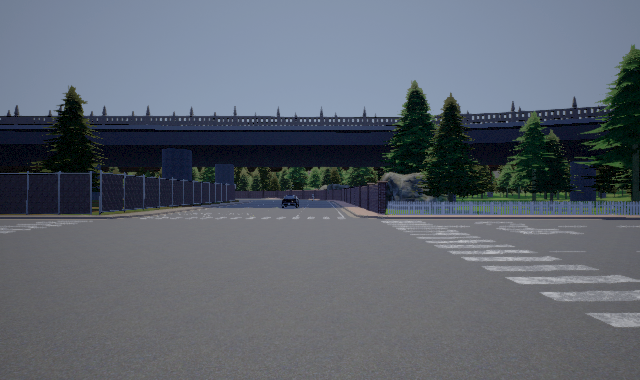vehicle: (280, 192, 301, 209)
